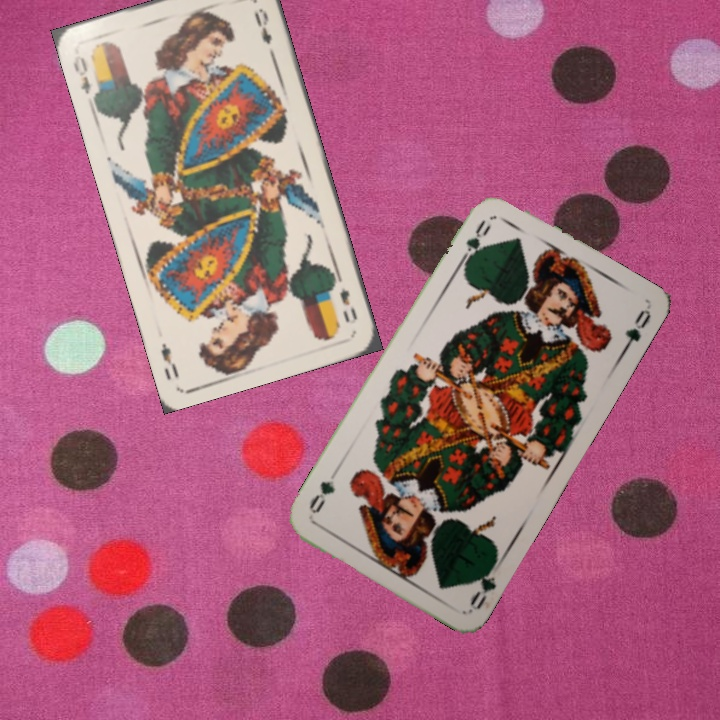EO: (328, 273, 360, 325), (69, 51, 94, 97)
GO: (454, 215, 494, 270), (465, 557, 500, 612)
